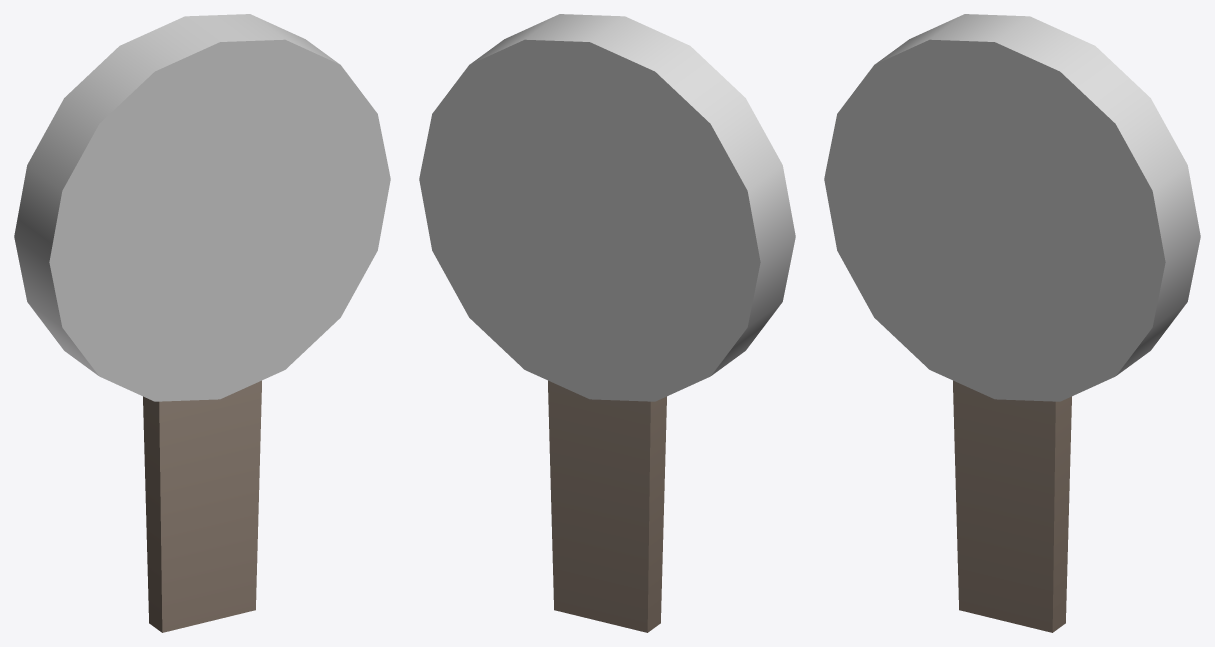
The model's file is TourGuideSign_0.glb.
3 renders of one model, left to right at view 1: azimuth 30°, elevation 25°; view 2: azimuth 150°, elevation 25°; view 3: azimuth 330°, elevation 25°, orthographic.
Parts seen in each view (by area): view 1: TourGuideSign; view 2: TourGuideSign; view 3: TourGuideSign.
Boxes of the visible parts, x1,y1,x2,y2 form: TourGuideSign: [14, 14, 390, 632]; TourGuideSign: [419, 14, 795, 632]; TourGuideSign: [824, 14, 1200, 632].
Bounding box in the file's own units: 0.4714 × 0.775 × 0.0841.
